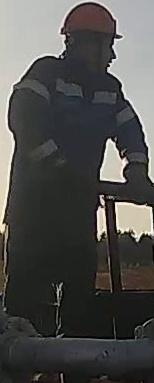gloves: (122, 161, 153, 206)
helmet: (58, 0, 123, 39)
vest: (3, 54, 123, 230), (23, 207, 24, 208)
